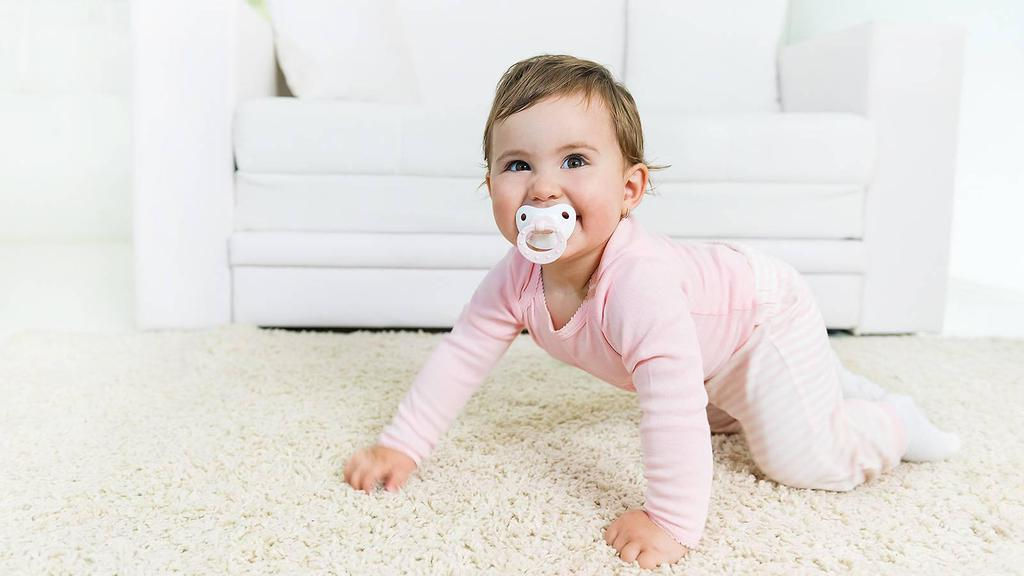child: (319, 49, 973, 572)
